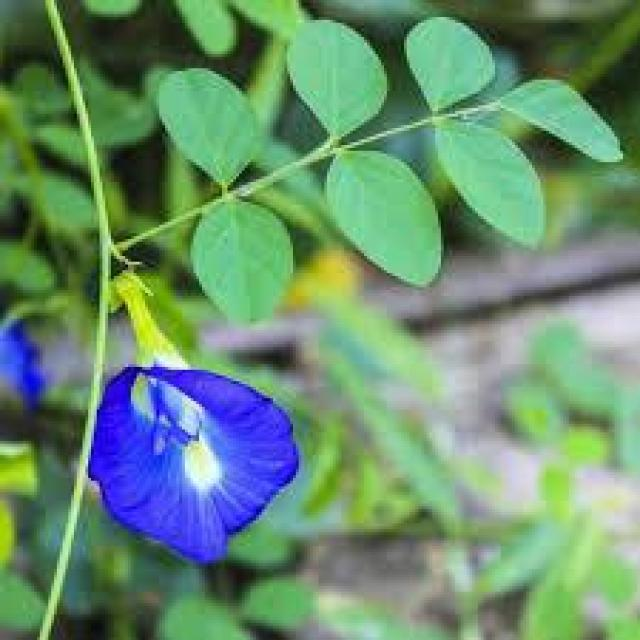organic waste: (75, 352, 320, 568)
